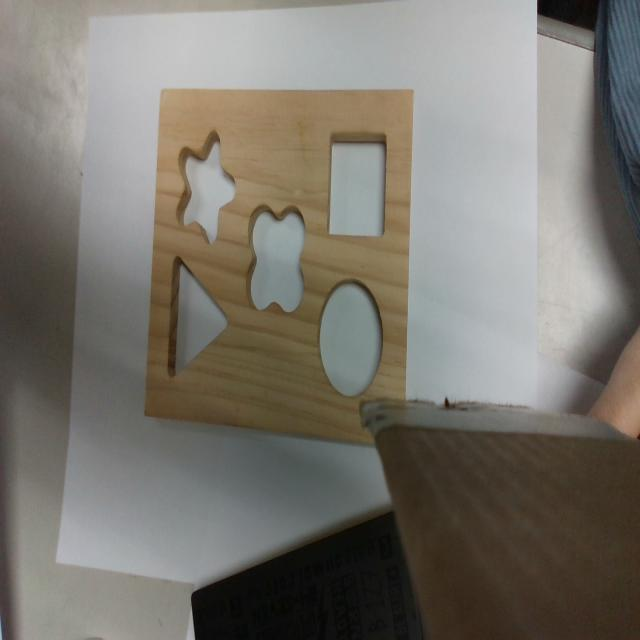circle: (320, 279, 383, 394)
flower: (246, 203, 306, 311)
square: (327, 133, 387, 239)
star: (177, 130, 236, 246)
triangle: (165, 251, 228, 376)
